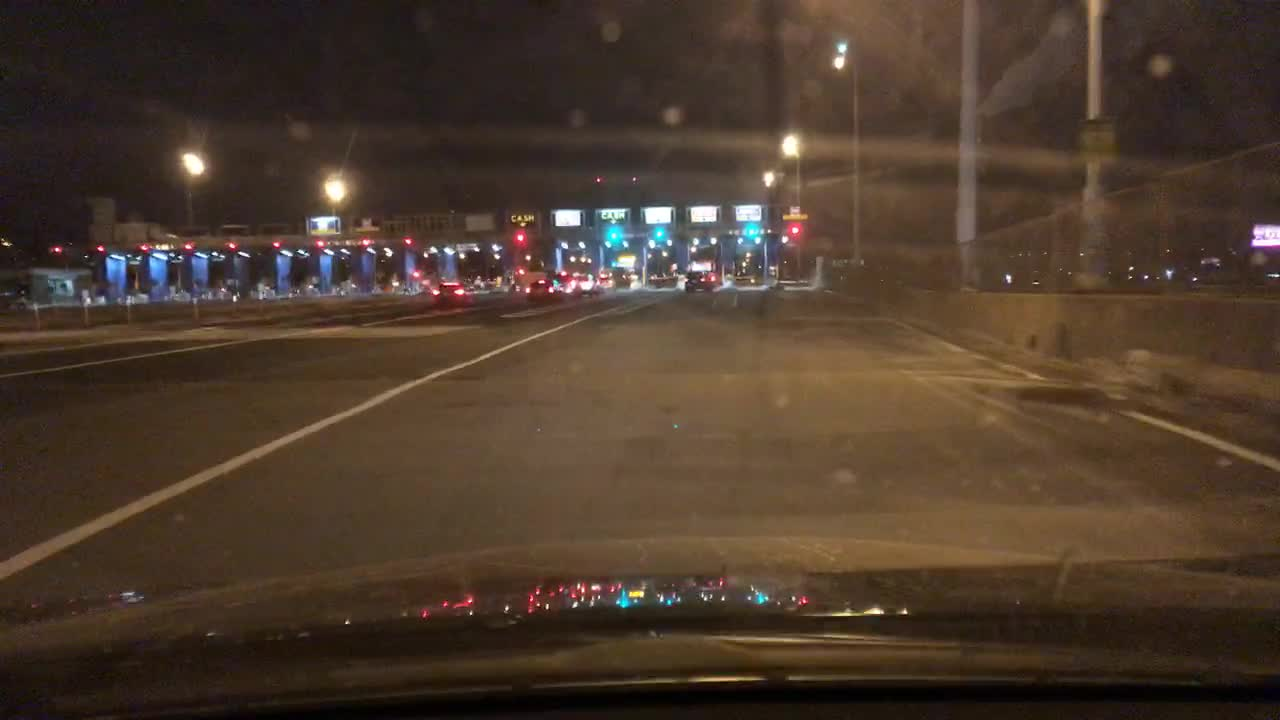car: (520, 270, 577, 304), (431, 279, 472, 307), (571, 270, 606, 295), (683, 269, 718, 293), (611, 270, 631, 290), (594, 272, 615, 289)
traffic light: (603, 227, 623, 246), (740, 224, 761, 236), (786, 224, 806, 236), (512, 232, 526, 246), (92, 244, 112, 253), (311, 239, 330, 247), (356, 238, 374, 246), (270, 236, 284, 246), (178, 242, 195, 249), (227, 241, 239, 249), (400, 238, 416, 244), (47, 246, 62, 252), (136, 244, 153, 249), (654, 229, 666, 236)
traffic sign: (1074, 115, 1118, 167)
